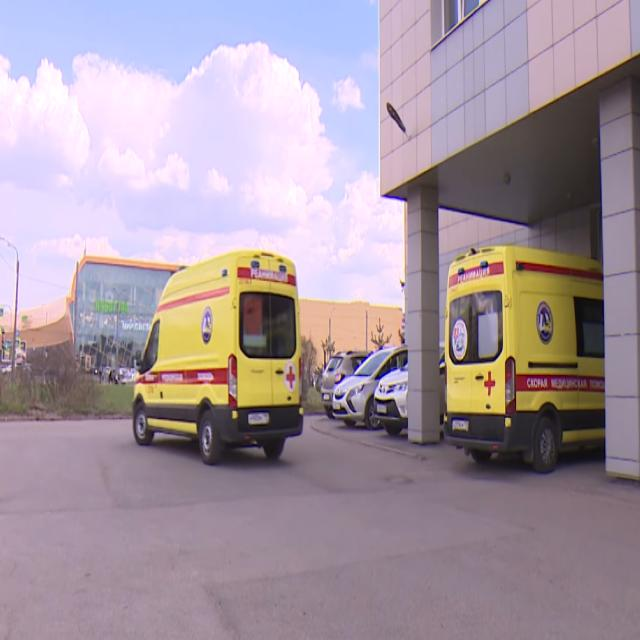intensive care unit: (133, 251, 306, 468), (447, 247, 607, 476)
non emergency car: (333, 342, 408, 423), (320, 347, 369, 417), (374, 354, 410, 440)
